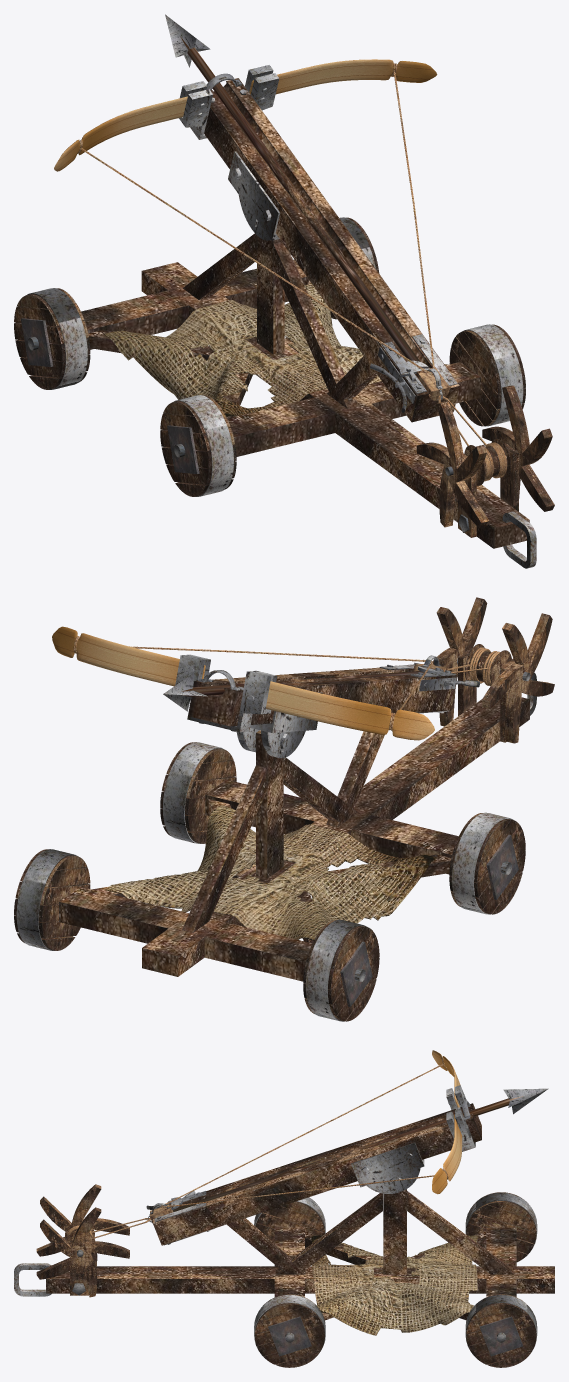
The model's file is ballista(formats) 1.fbx.
The picture shows the model from 3 angles, top to bottom: view 1: azimuth 30°, elevation 25°; view 2: azimuth 150°, elevation 25°; view 3: azimuth 270°, elevation 25°; orthographic projection. The views are drawn at different scales.
Visible parts, largest first — view 1: kasa, kumas, tekerlek, carklar, kasnak, yay, ok, baglantilar, mekanizma, baglanti, ip_2, halka (+1 smaller); view 2: kasa, kumas, tekerlek, kasnak, yay, carklar, baglantilar, baglanti, ok, mekanizma, ip_2, ip; view 3: kasa, tekerlek, kumas, carklar, baglanti, kasnak, ok, yay, ip_2, baglantilar, mekanizma, halka.
Part boxes in pixels (x1,y1,x2,y2): kasa: [81, 78, 529, 548]; kumas: [104, 283, 381, 417]; tekerlek: [14, 217, 525, 496]; carklar: [416, 385, 554, 537]; kasnak: [26, 217, 523, 496]; yay: [54, 59, 437, 171]; ok: [165, 14, 420, 361]; baglantilar: [179, 65, 279, 139]; mekanizma: [370, 334, 457, 412]; baglanti: [228, 151, 280, 240]; ip_2: [77, 63, 434, 375]; halka: [502, 511, 536, 568]; kasa: [59, 667, 529, 981]; kumas: [105, 805, 436, 940]; tekerlek: [14, 742, 525, 1021]; kasnak: [16, 742, 513, 1021]; yay: [52, 626, 434, 740]; carklar: [432, 597, 554, 743]; baglantilar: [175, 654, 277, 732]; baglanti: [236, 692, 322, 758]; ok: [163, 671, 424, 711]; mekanizma: [379, 655, 479, 713]; ip_2: [73, 636, 432, 730]; ip: [448, 647, 500, 686]; kasa: [46, 1103, 554, 1320]; tekerlek: [254, 1192, 536, 1367]; kumas: [311, 1235, 478, 1335]; carklar: [36, 1184, 129, 1297]; baglanti: [351, 1142, 424, 1193]; kasnak: [254, 1192, 537, 1364]; ok: [173, 1088, 548, 1211]; yay: [432, 1050, 462, 1194]; ip_2: [160, 1057, 448, 1207]; baglantilar: [446, 1085, 475, 1151]; mekanizma: [146, 1191, 214, 1245]; halka: [14, 1263, 51, 1296].
Size of the model in its own units: 940 by 727 by 1589.
Materials: 16 (16 with a texture image).
